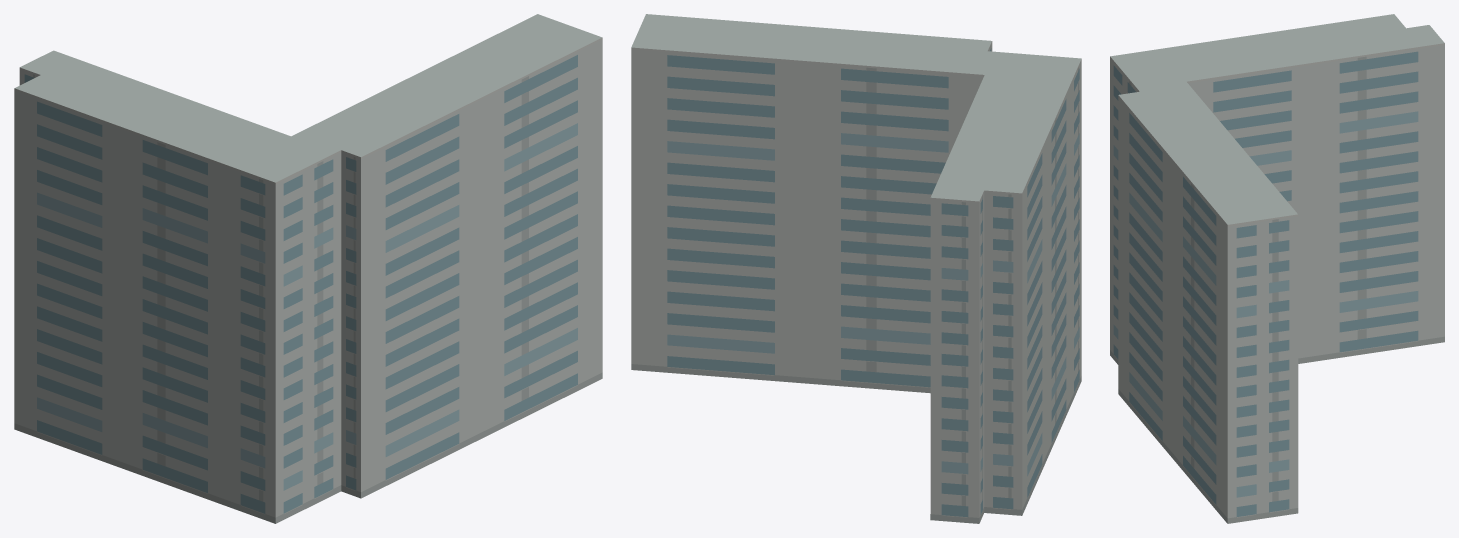
Rendered from residential-a280e801-bbca-408f-b46a-9e75c240dc7a.glb.
The picture shows the model from 3 angles, left to right: view 1: azimuth 30°, elevation 25°; view 2: azimuth 150°, elevation 25°; view 3: azimuth 270°, elevation 25°; orthographic projection. The views are drawn at different scales.
Visible parts, largest first — view 1: residential-a280e801-bbca-408f-b46a-9e75c240dc7a.tmp; view 2: residential-a280e801-bbca-408f-b46a-9e75c240dc7a.tmp; view 3: residential-a280e801-bbca-408f-b46a-9e75c240dc7a.tmp.
Boxes of the visible parts, x1,y1,x2,y2 form: residential-a280e801-bbca-408f-b46a-9e75c240dc7a.tmp: [14, 14, 602, 523]; residential-a280e801-bbca-408f-b46a-9e75c240dc7a.tmp: [631, 14, 1081, 523]; residential-a280e801-bbca-408f-b46a-9e75c240dc7a.tmp: [1110, 14, 1444, 523].
Size of the model in its own units: 62.01 by 41 by 41.6.
